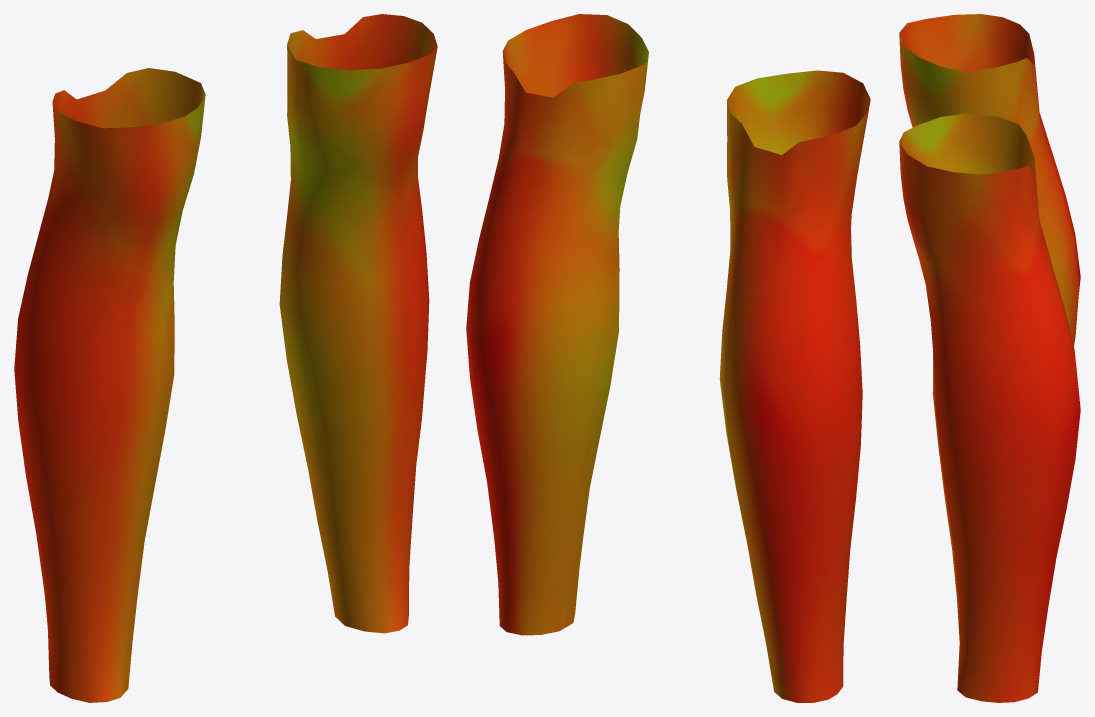
Rendered from lowerlegs.obj.
The picture shows the model from 3 angles, left to right: view 1: azimuth 30°, elevation 25°; view 2: azimuth 150°, elevation 25°; view 3: azimuth 270°, elevation 25°; orthographic projection. The views are drawn at different scales.
Parts seen in each view (by area): view 1: lowerlegs_0; view 2: lowerlegs_0; view 3: lowerlegs_0.
Boxes of the visible parts, x1,y1,x2,y2 form: lowerlegs_0: (14,14,437,702); lowerlegs_0: (466,14,870,702); lowerlegs_0: (899,14,1080,702).
Size of the model in its own units: 0.3072 by 0.4474 by 0.1363.
Materials: 1 (1 with a texture image).
